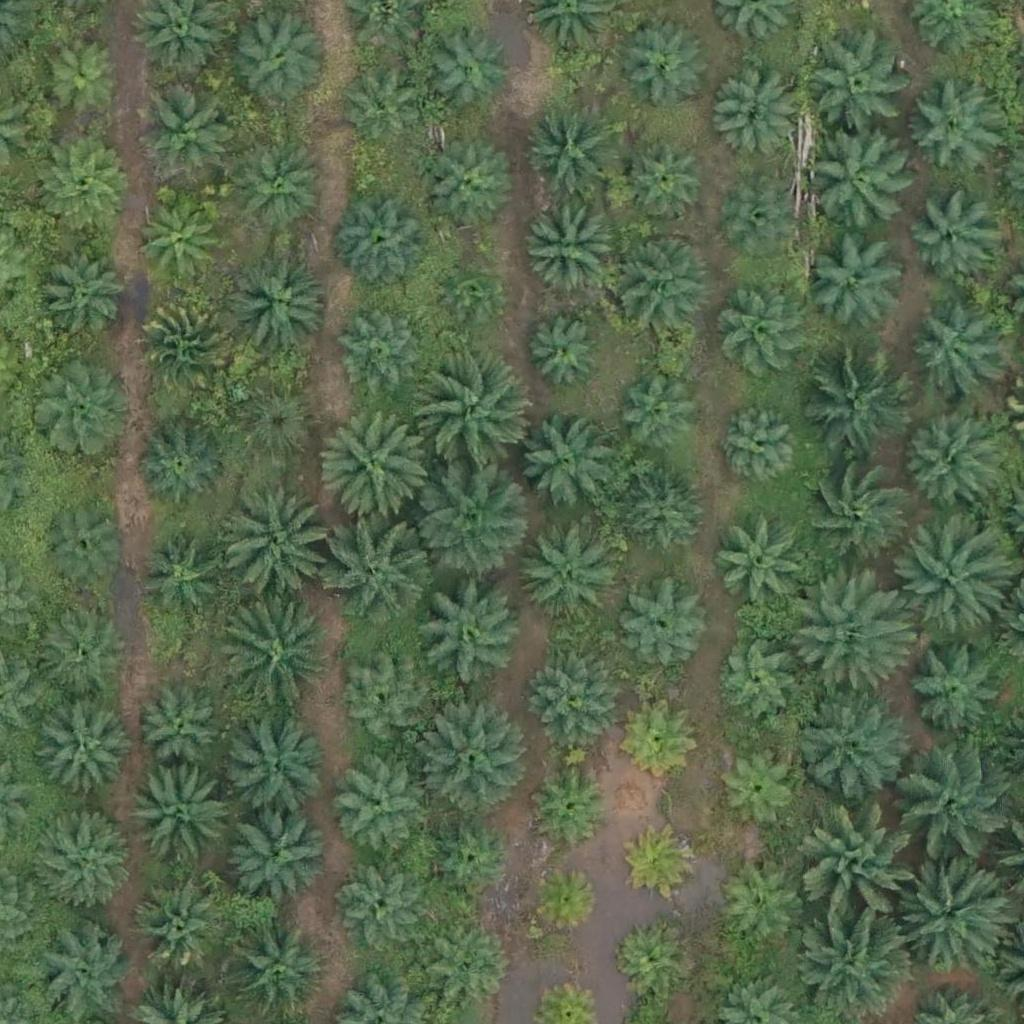Kelapa_Sawit: (218, 489, 331, 603), (801, 127, 914, 241), (901, 750, 1014, 863), (800, 908, 913, 1021), (413, 466, 526, 579), (414, 576, 527, 689), (415, 699, 528, 812), (324, 512, 437, 625), (320, 408, 433, 521), (214, 603, 327, 716), (900, 527, 1012, 641), (806, 812, 918, 926), (801, 351, 913, 465), (420, 356, 532, 470), (896, 855, 1008, 968), (793, 686, 905, 799), (793, 571, 905, 684), (797, 458, 909, 571), (901, 632, 1001, 733), (813, 232, 913, 333), (712, 516, 812, 617), (607, 232, 707, 333), (516, 520, 616, 621), (334, 192, 434, 293), (226, 249, 326, 350), (223, 719, 323, 820), (228, 802, 328, 903), (227, 919, 327, 1020), (130, 767, 230, 868), (34, 804, 134, 905), (36, 130, 136, 231), (135, 78, 235, 179), (228, 1, 328, 102), (226, 134, 326, 235), (523, 100, 623, 201), (813, 35, 913, 136), (896, 414, 996, 514), (521, 199, 621, 299), (515, 415, 615, 515), (30, 361, 130, 461), (139, 296, 239, 396), (35, 922, 135, 1022), (904, 73, 1004, 173), (714, 402, 802, 491), (425, 814, 513, 902), (425, 932, 513, 1020), (906, 192, 994, 280), (907, 308, 995, 396), (722, 292, 810, 380), (616, 365, 704, 453), (228, 382, 316, 470), (40, 498, 128, 586), (133, 528, 221, 616), (711, 742, 799, 830), (716, 865, 804, 953), (335, 770, 423, 858), (336, 862, 424, 950), (337, 313, 425, 401), (133, 198, 221, 286), (138, 421, 226, 509), (138, 678, 226, 766), (422, 29, 510, 117), (619, 470, 706, 558), (714, 640, 801, 728), (529, 650, 616, 738), (616, 581, 703, 669), (341, 659, 428, 747), (133, 884, 220, 972), (33, 249, 120, 337), (39, 607, 126, 695), (42, 708, 129, 796), (41, 29, 128, 117), (339, 65, 426, 153), (429, 145, 516, 233), (622, 137, 709, 225), (622, 19, 709, 107), (712, 72, 799, 160), (526, 315, 601, 391), (610, 920, 685, 996), (726, 182, 801, 258), (625, 824, 700, 900), (535, 766, 610, 841), (527, 863, 602, 938), (625, 702, 700, 777), (437, 259, 499, 322)
